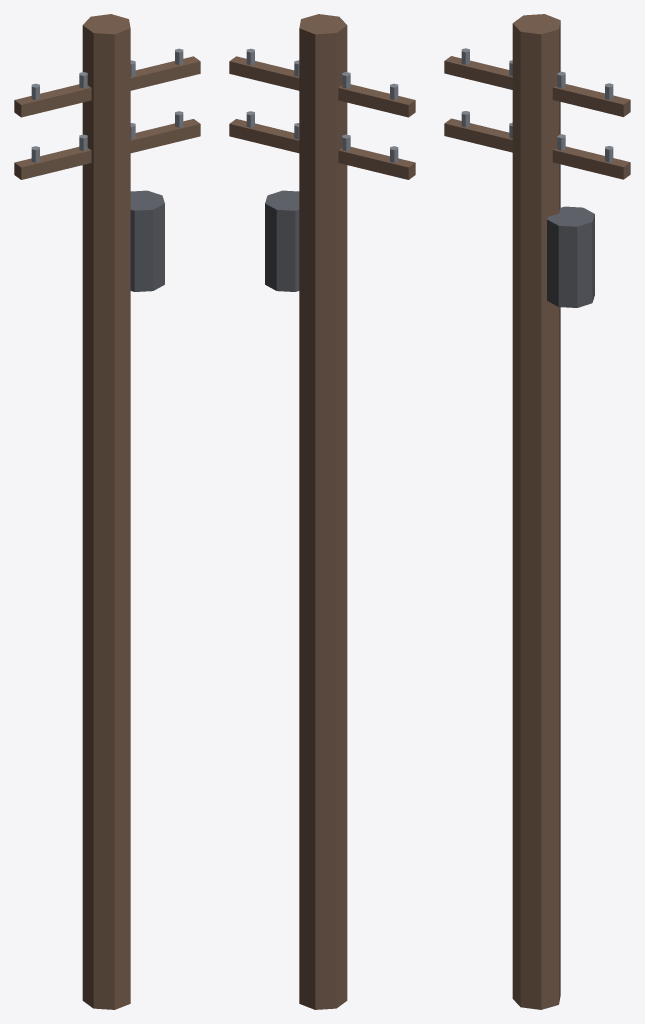
The model's file is arkham_street_telegraphpole.glb.
The picture shows the model from 3 angles, left to right: view 1: azimuth 30°, elevation 25°; view 2: azimuth 150°, elevation 25°; view 3: azimuth 330°, elevation 25°; orthographic projection.
Visible parts, largest first — view 1: Arkham_Street_TelegraphPole; view 2: Arkham_Street_TelegraphPole; view 3: Arkham_Street_TelegraphPole.
Part boxes in pixels (x1,y1,x2,y2): Arkham_Street_TelegraphPole: [14, 14, 200, 1009]; Arkham_Street_TelegraphPole: [229, 14, 415, 1009]; Arkham_Street_TelegraphPole: [444, 14, 630, 1009].
Size of the model in its own units: 1.5 by 7.8 by 0.36.
